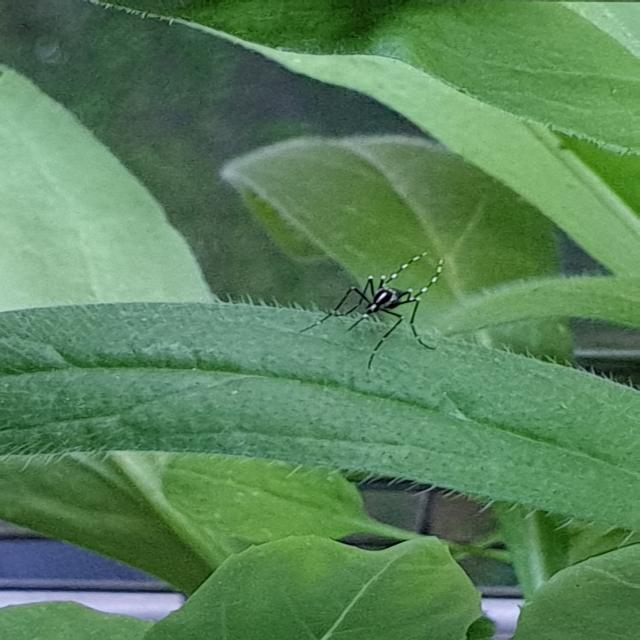albopictus: (290, 240, 451, 374)
